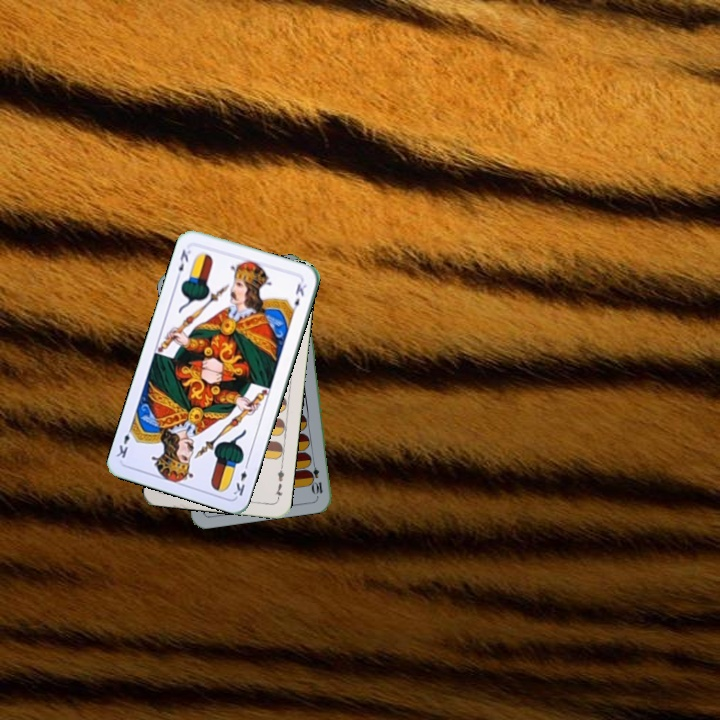E10: (307, 456, 325, 497)
E7: (270, 462, 287, 503)
EK: (229, 458, 251, 498), (174, 242, 194, 282)
